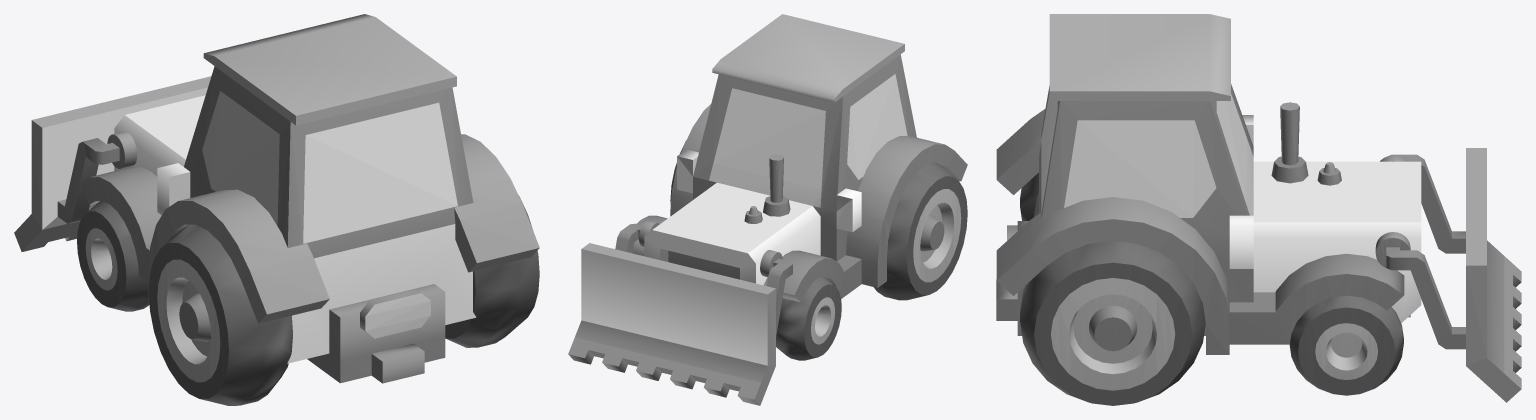
Rendered from slag_dozer.glb.
3 renders of one model, left to right at view 1: azimuth 30°, elevation 25°; view 2: azimuth 150°, elevation 25°; view 3: azimuth 270°, elevation 25°, orthographic. The views are drawn at different scales.
Parts seen in each view (by area): view 1: Body; view 2: Body; view 3: Body.
Boxes of the visible parts, x1,y1,x2,y2 form: Body: [14, 14, 539, 405]; Body: [568, 14, 967, 405]; Body: [996, 14, 1521, 405].
Size of the model in its own units: 4.37 by 3.98 by 6.5.
Materials: 2 (1 with a texture image).
